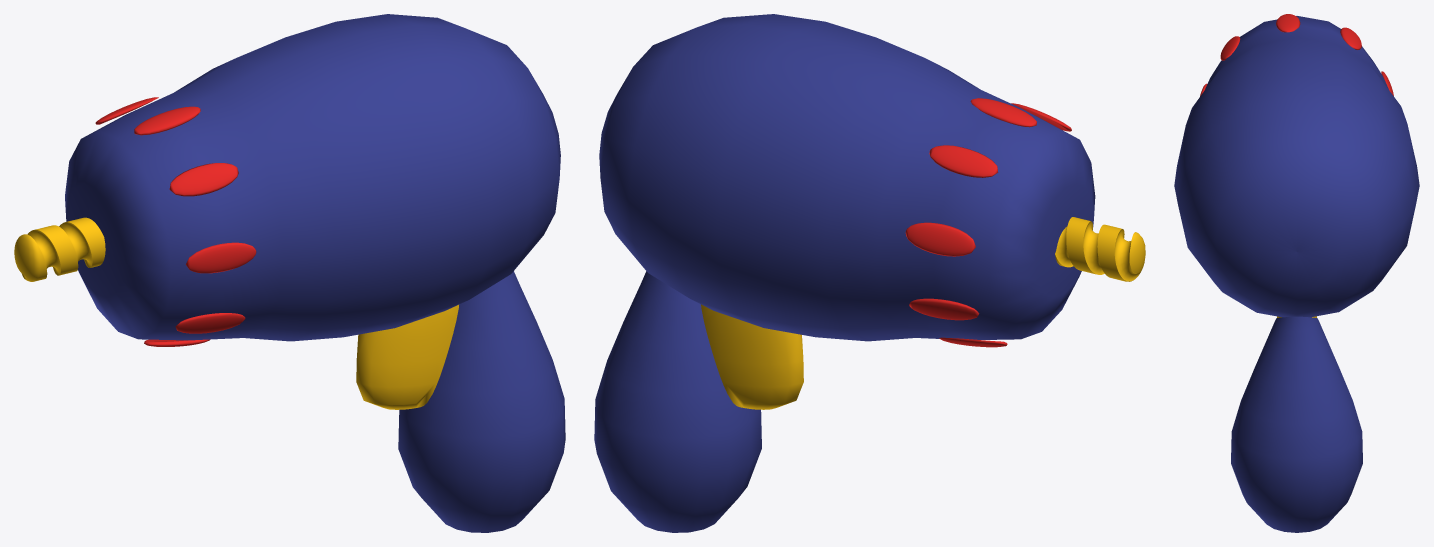
The model's file is trapano dentale.fbx.
The picture shows the model from 3 angles, left to right: view 1: azimuth 30°, elevation 25°; view 2: azimuth 150°, elevation 25°; view 3: azimuth 270°, elevation 25°; orthographic projection. The views are drawn at different scales.
Parts seen in each view (by area): view 1: Oggetto_1, Oggetto_14, Oggetto_4, Oggetto_15, Oggetto_6, Oggetto_5, Oggetto_10, Oggetto_7; view 2: Oggetto_1, Oggetto_14, Oggetto_4, Oggetto_15, Oggetto_13, Oggetto_9, Oggetto_8, Oggetto_7; view 3: Oggetto_1, Oggetto_14, Oggetto_7, Oggetto_9.
Part boxes in pixels (box(x1,y1,x2,y2)): Oggetto_1: box(65, 14, 560, 341); Oggetto_14: box(398, 271, 565, 532); Oggetto_4: box(356, 304, 458, 409); Oggetto_15: box(14, 217, 105, 281); Oggetto_6: box(169, 163, 238, 196); Oggetto_5: box(186, 242, 256, 273); Oggetto_10: box(175, 313, 245, 333); Oggetto_7: box(134, 106, 200, 135); Oggetto_1: box(599, 14, 1095, 341); Oggetto_14: box(594, 271, 761, 532); Oggetto_4: box(701, 304, 803, 409); Oggetto_15: box(1055, 217, 1145, 281); Oggetto_13: box(905, 222, 975, 256); Oggetto_9: box(929, 145, 998, 177); Oggetto_8: box(909, 298, 979, 320); Oggetto_7: box(970, 98, 1036, 127); Oggetto_1: box(1174, 16, 1419, 317); Oggetto_14: box(1231, 316, 1362, 532); Oggetto_7: box(1276, 14, 1300, 32); Oggetto_9: box(1340, 27, 1361, 49).
Size of the model in its own units: 12.26 by 6.22 by 11.52.
